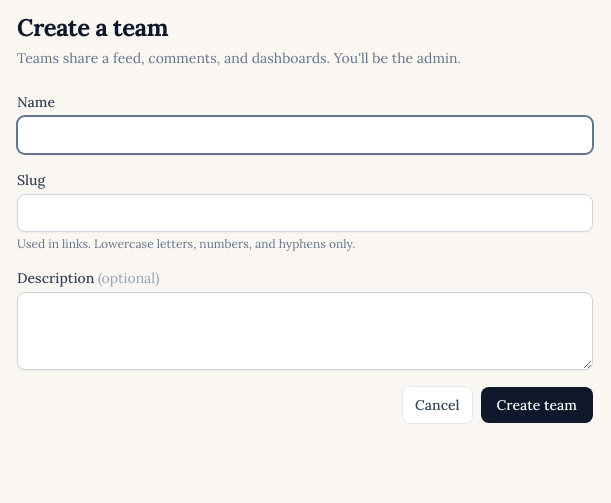
Test: NewTeamPage › shows error message when API fails
Type "My Team" into the field labelled "Name" at x=305, y=135, box [17,116,593,154]
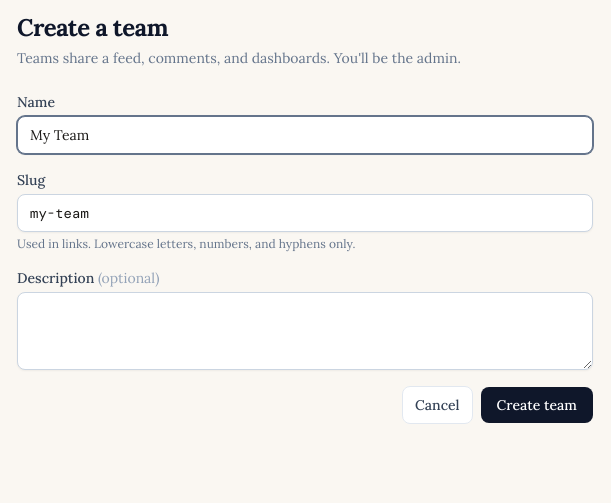
Click the button "Create team" at x=537, y=405, box [480,387,593,423]
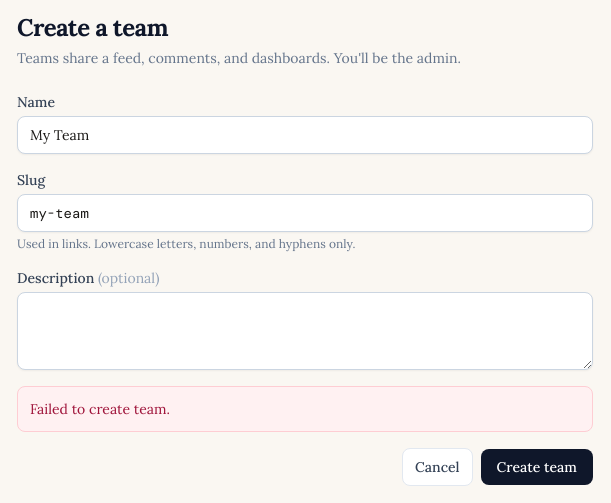
Result: the text "Failed to create team." is shown at [17,386,593,432]
